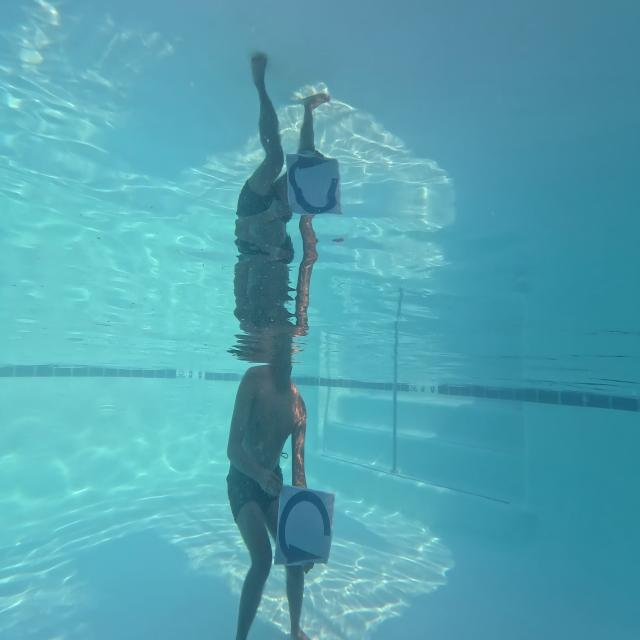blue_side: (276, 490, 335, 569)
